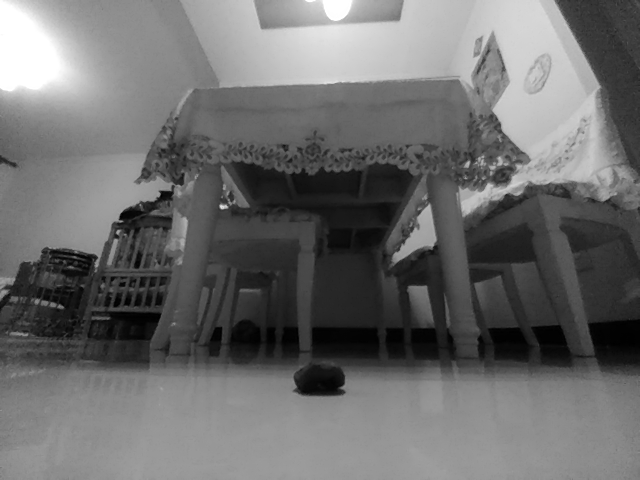pet feces: (293, 362, 346, 394)
